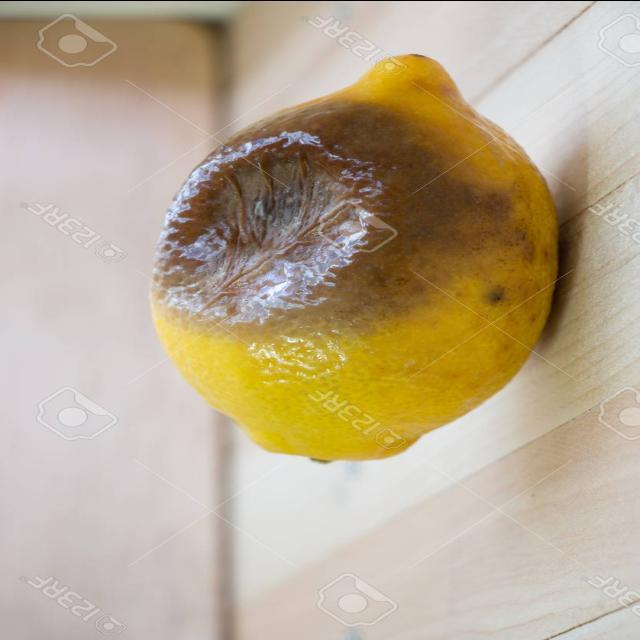Rotten: (153, 52, 562, 465)
